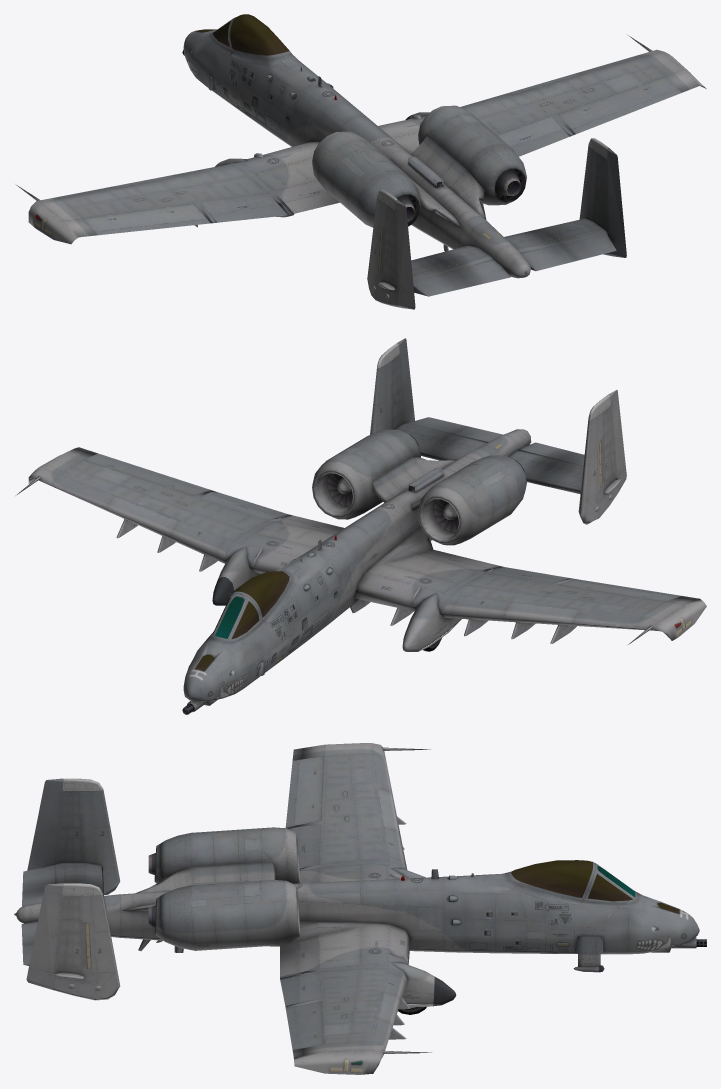
The picture shows the model from 3 angles, top to bottom: view 1: azimuth 30°, elevation 25°; view 2: azimuth 150°, elevation 25°; view 3: azimuth 270°, elevation 25°; orthographic projection.
Visible parts, largest first — view 1: A-10_LOD0_default.001, A-10_AileronR01_default, A-10_AileronL01_default, A-10_ElevatorL01_default, A-10_ElevatorR01_default, A-10_Glass01_default, A-10_RudderL01_default, A-10_RudderR01_default, A-10_BrakeR01_default, A-10_FlapL01_default, A-10_FlapR01_default, A-10_BrakeL01_default (+6 smaller); view 2: A-10_LOD0_default.001, A-10_AileronR01_default, A-10_Glass_default.001, A-10_Glass01_default, A-10_AileronL01_default, A-10_ElevatorR01_default, A-10_RudderL01_default, A-10_BrakeR01_default, A-10_RudderR01_default, A-10_Canopy01_default, A-10_ElevatorL01_default, A-10_BrakeL01_default; view 3: A-10_LOD0_default.001, A-10_RudderR01_default, A-10_AileronL01_default, A-10_Glass01_default, A-10_RudderL01_default, A-10_AileronR01_default, A-10_Canopy01_default, A-10_Glass_default.001, A-10_BrakeL01_default, A-10_ElevatorL01_default, A-10_FlapL01_default, A-10_FlapR03_default (+3 smaller).
Boxes of the visible parts, left/top/right/bottom form: A-10_LOD0_default.001: left=15, top=18, right=706, bottom=307; A-10_AileronR01_default: left=558, top=76, right=681, bottom=133; A-10_AileronL01_default: left=83, top=203, right=210, bottom=235; A-10_ElevatorL01_default: left=413, top=260, right=510, bottom=296; A-10_ElevatorR01_default: left=521, top=234, right=616, bottom=271; A-10_Glass01_default: left=230, top=14, right=289, bottom=55; A-10_RudderL01_default: left=395, top=199, right=415, bottom=309; A-10_RudderR01_default: left=607, top=148, right=626, bottom=257; A-10_BrakeR01_default: left=550, top=71, right=665, bottom=114; A-10_FlapL01_default: left=200, top=193, right=278, bottom=214; A-10_FlapR01_default: left=498, top=117, right=562, bottom=146; A-10_BrakeL01_default: left=77, top=197, right=192, bottom=218; A-10_LOD0_default.001: left=15, top=342, right=706, bottom=714; A-10_AileronR01_default: left=83, top=453, right=210, bottom=495; A-10_Glass_default.001: left=195, top=596, right=259, bottom=670; A-10_Glass01_default: left=233, top=571, right=289, bottom=617; A-10_AileronL01_default: left=558, top=579, right=681, bottom=601; A-10_ElevatorR01_default: left=407, top=417, right=502, bottom=441; A-10_RudderL01_default: left=609, top=390, right=626, bottom=492; A-10_BrakeR01_default: left=77, top=460, right=192, bottom=500; A-10_RudderR01_default: left=397, top=338, right=414, bottom=423; A-10_Canopy01_default: left=231, top=565, right=299, bottom=622; A-10_ElevatorL01_default: left=519, top=442, right=584, bottom=465; A-10_BrakeL01_default: left=550, top=585, right=665, bottom=605; A-10_LOD0_default.001: left=14, top=743, right=706, bottom=1074; A-10_RudderR01_default: left=26, top=883, right=63, bottom=989; A-10_AileronL01_default: left=285, top=756, right=324, bottom=827; A-10_Glass01_default: left=511, top=860, right=592, bottom=897; A-10_RudderL01_default: left=27, top=778, right=63, bottom=870; A-10_AileronR01_default: left=285, top=1001, right=324, bottom=1049; A-10_Canopy01_default: left=486, top=862, right=595, bottom=904; A-10_Glass_default.001: left=588, top=866, right=679, bottom=913; A-10_BrakeL01_default: left=321, top=755, right=337, bottom=820; A-10_ElevatorL01_default: left=22, top=864, right=55, bottom=906; A-10_FlapL01_default: left=299, top=824, right=321, bottom=868; A-10_FlapR03_default: left=299, top=935, right=319, bottom=972.
Size of the model in its own units: 17.49 by 3.44 by 16.07.
Materials: 4 (4 with a texture image).
